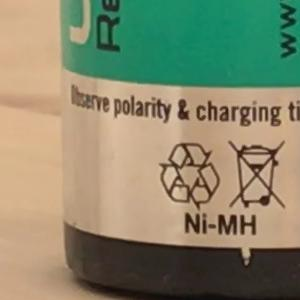NI-MH: (175, 205, 266, 244)
